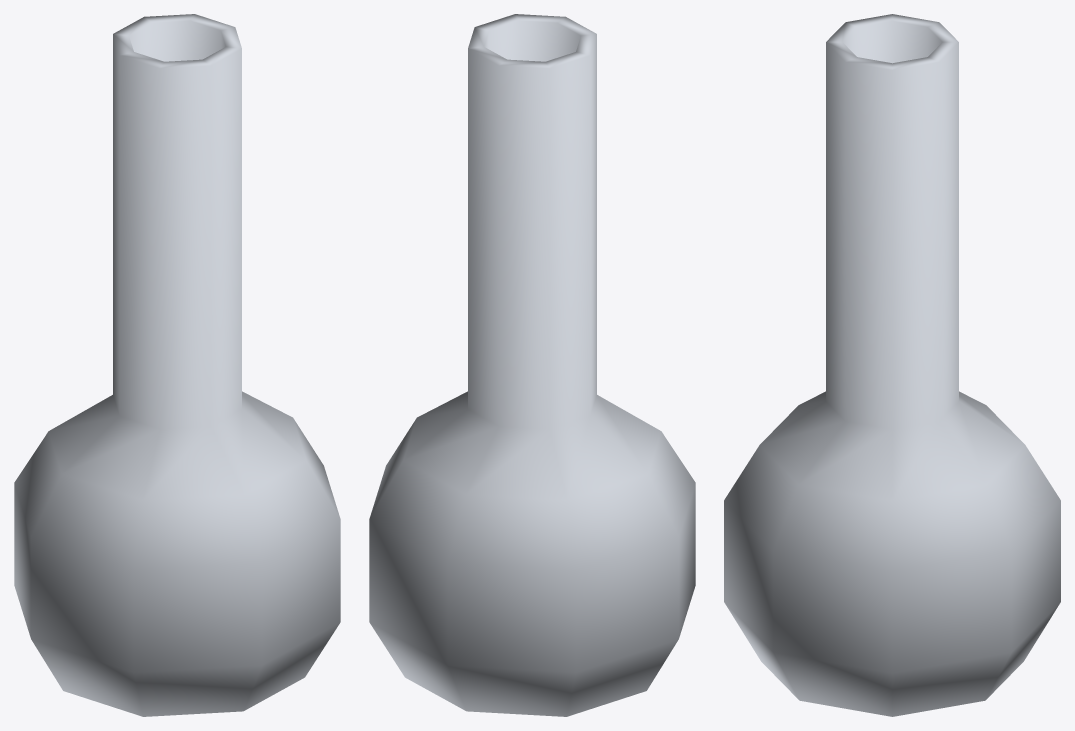
The model's file is bottle_glassware_florence_flask_small.glb.
3 renders of one model, left to right at view 1: azimuth 30°, elevation 25°; view 2: azimuth 150°, elevation 25°; view 3: azimuth 270°, elevation 25°, orthographic.
Visible parts, largest first — view 1: bottle_glassware_florence_flask_small; view 2: bottle_glassware_florence_flask_small; view 3: bottle_glassware_florence_flask_small.
Part boxes in pixels (bbox=[...]): bottle_glassware_florence_flask_small: bbox=[14, 14, 340, 716]; bottle_glassware_florence_flask_small: bbox=[369, 14, 695, 716]; bottle_glassware_florence_flask_small: bbox=[724, 14, 1060, 716].
Bounding box in the file's own units: 8.1 × 16.44 × 8.1.
Materials: 1 (1 with a texture image).
